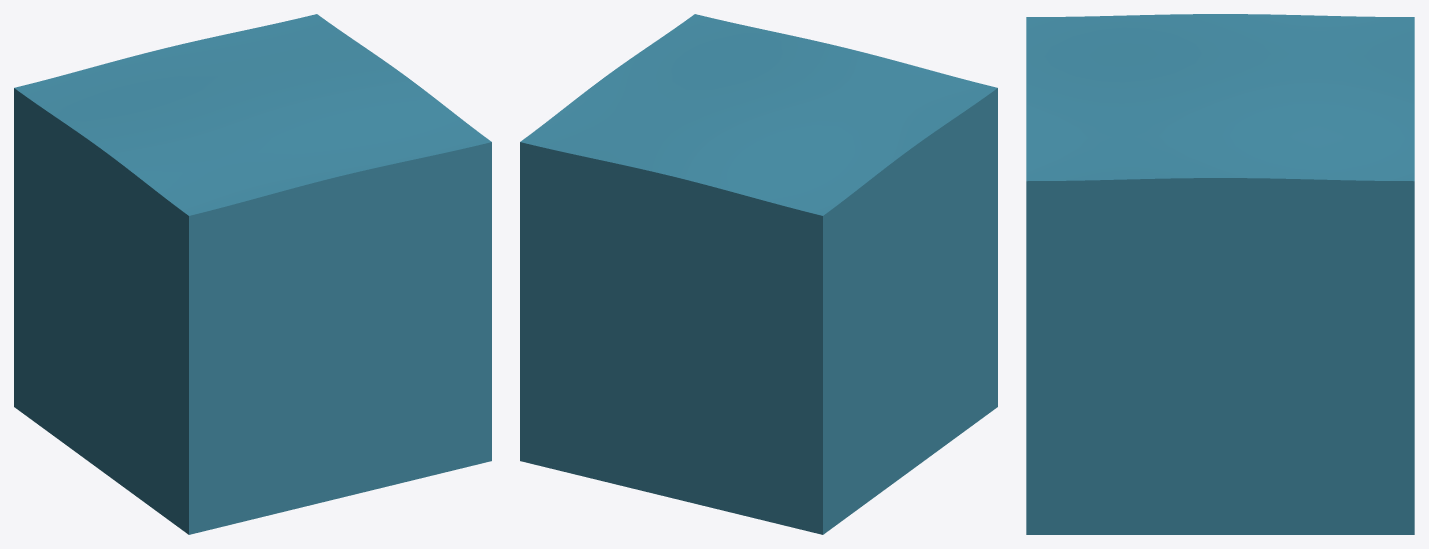
File: slpool_wave00.glb
3 views of the same model, side by side, from view 1: azimuth 30°, elevation 25°; view 2: azimuth 150°, elevation 25°; view 3: azimuth 270°, elevation 25° (orthographic). The views are drawn at different scales.
Visible parts, largest first — view 1: poolWater; view 2: poolWater; view 3: poolWater.
Part boxes in pixels (x1=…): poolWater: x1=14, y1=14, x2=491, y2=534; poolWater: x1=520, y1=14, x2=997, y2=534; poolWater: x1=1026, y1=14, x2=1414, y2=534.
Bounding box in the file's own units: 2 × 2.05 × 2.
